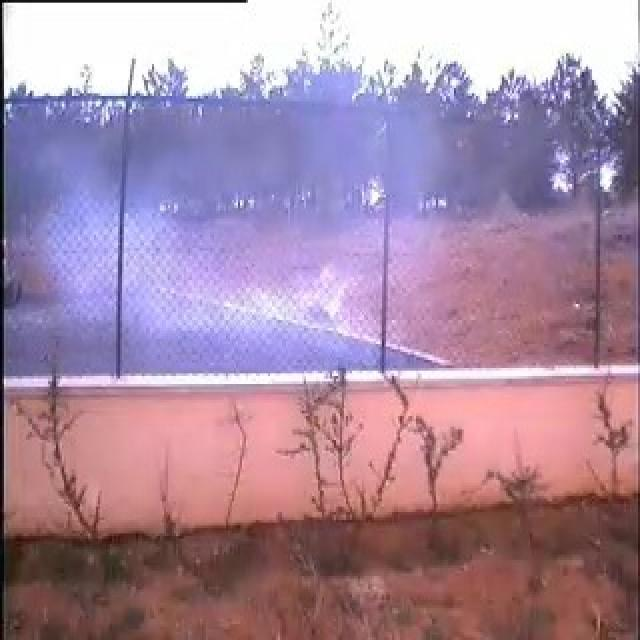Smoke: (121, 100, 392, 373)
